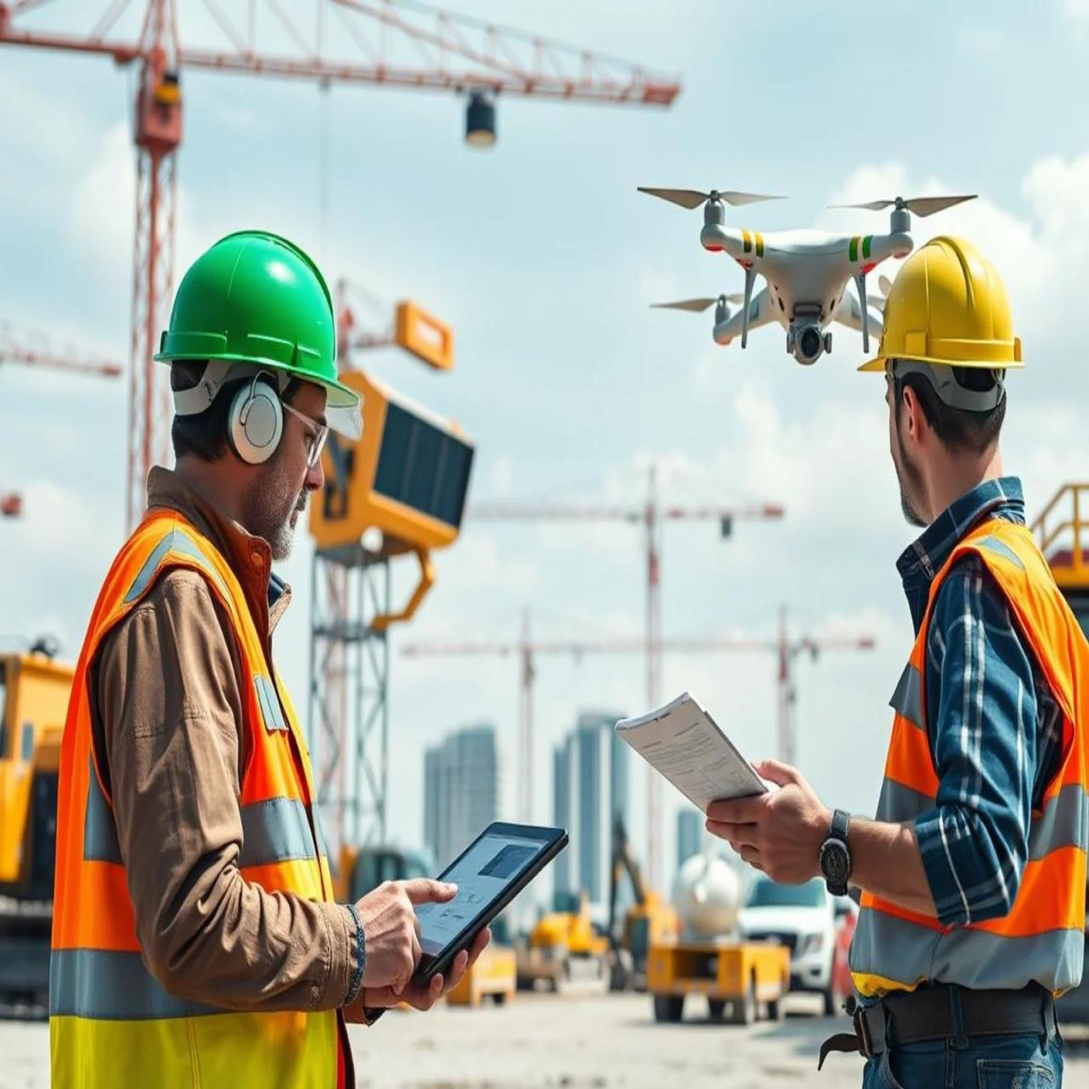Person: (34, 182, 455, 1089), (704, 222, 1089, 1089)
Safety_Vest: (51, 510, 371, 1089), (834, 474, 1080, 1089)
